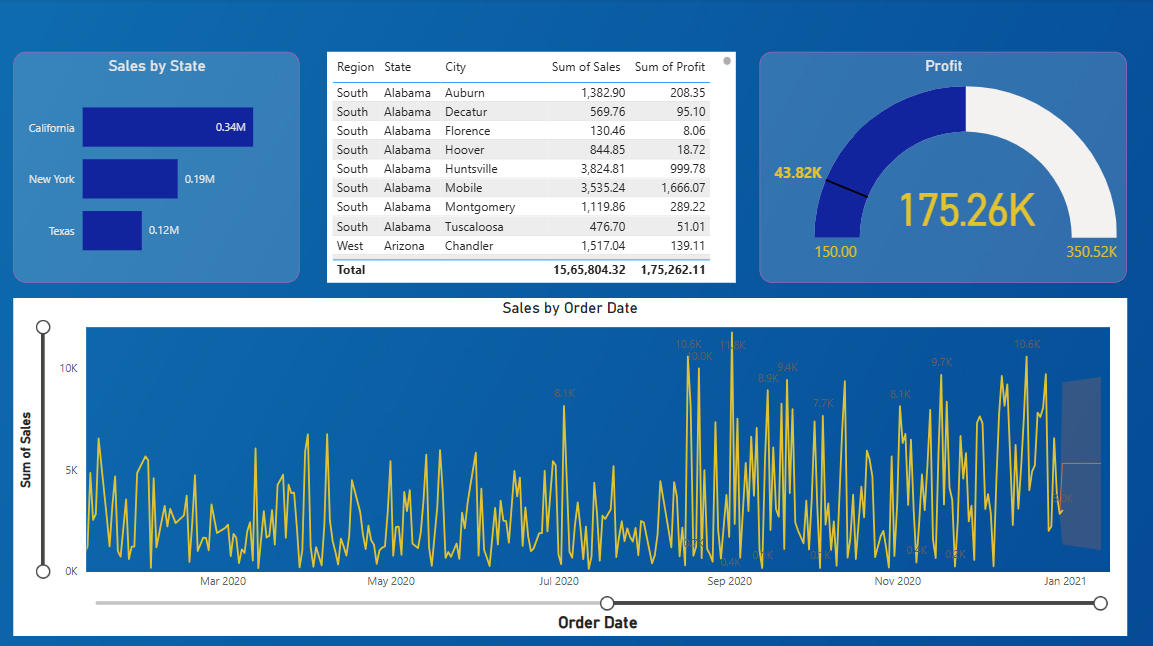

This screenshot's page, from the dashboard's own definition file:
{"tool":"powerbi","page":{"name":"Page 2","canvas":[1280,720],"ordinal":1},"visuals":[{"type":"lineChart","title":" Sales by Order Date","fields":{"Y":["Sum(SuperStore_Sales_Dataset.Sales)"],"Category":["SuperStore_Sales_Dataset.Order Date"]},"box":[17.8,329.3,1222.6,370.5],"z":0},{"type":"clusteredBarChart","title":"Sales by State","fields":{"Y":["Sum(SuperStore_Sales_Dataset.Sales)"],"Category":["SuperStore_Sales_Dataset.State"]},"box":[17.8,59,314.2,253.9],"z":1000},{"type":"tableEx","fields":{"Values":["SuperStore_Sales_Dataset.Region","SuperStore_Sales_Dataset.State","SuperStore_Sales_Dataset.City","Sum(SuperStore_Sales_Dataset.Sales)","Sum(SuperStore_Sales_Dataset.Profit)"]},"box":[362.3,59,448.7,253.9],"z":2000},{"type":"gauge","title":"Profit","fields":{"Y":["Sum(SuperStore_Sales_Dataset.Profit)"],"TargetValue":["SuperStore_Sales_Dataset.Target_Region_Min"]},"box":[837.1,59,403.4,253.9],"z":3000}]}

Visuals, with their boxes in screenshot pixels (x1, y1, x2, y2), scaled from the page's 1280x720 canvas onto the 1153x646 screenshot:
" Sales by Order Date" lineChart: detection(16, 295, 1117, 628)
"Sales by State" clusteredBarChart: detection(16, 53, 299, 281)
tableEx - SuperStore_Sales_Dataset.Region x SuperStore_Sales_Dataset.State: detection(326, 53, 731, 281)
"Profit" gauge: detection(754, 53, 1117, 281)
